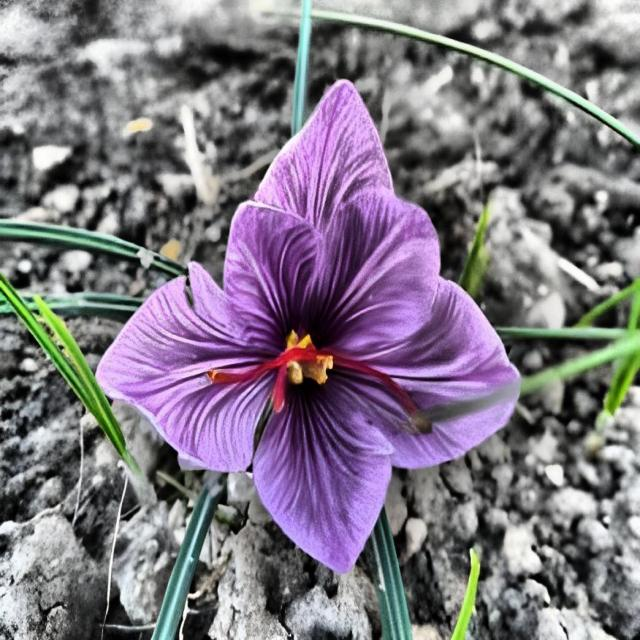Flower: (90, 70, 527, 579)
stigma: (316, 346, 420, 420), (203, 342, 318, 388), (267, 348, 319, 416)
